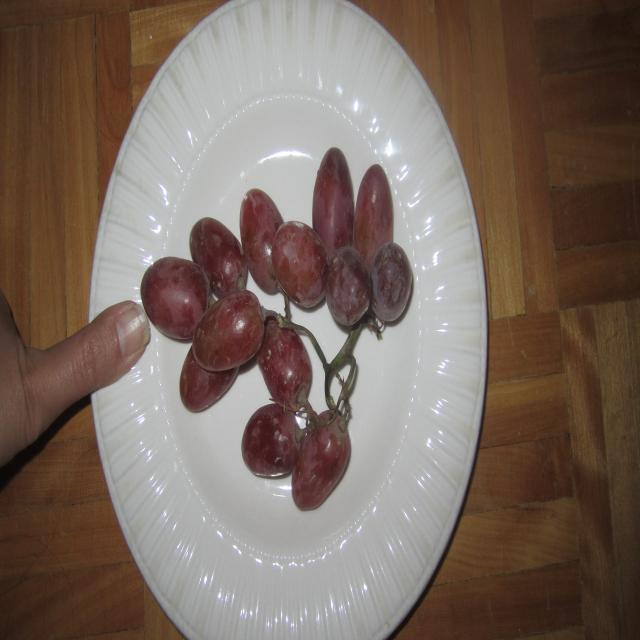grapes: (140, 145, 413, 511)
